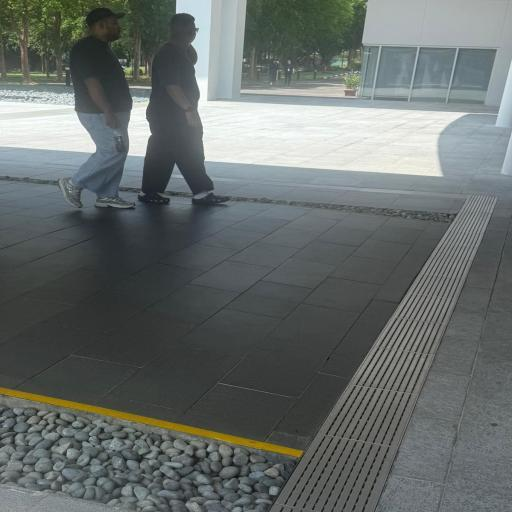person_right: (138, 13, 230, 205), (58, 8, 136, 208)
